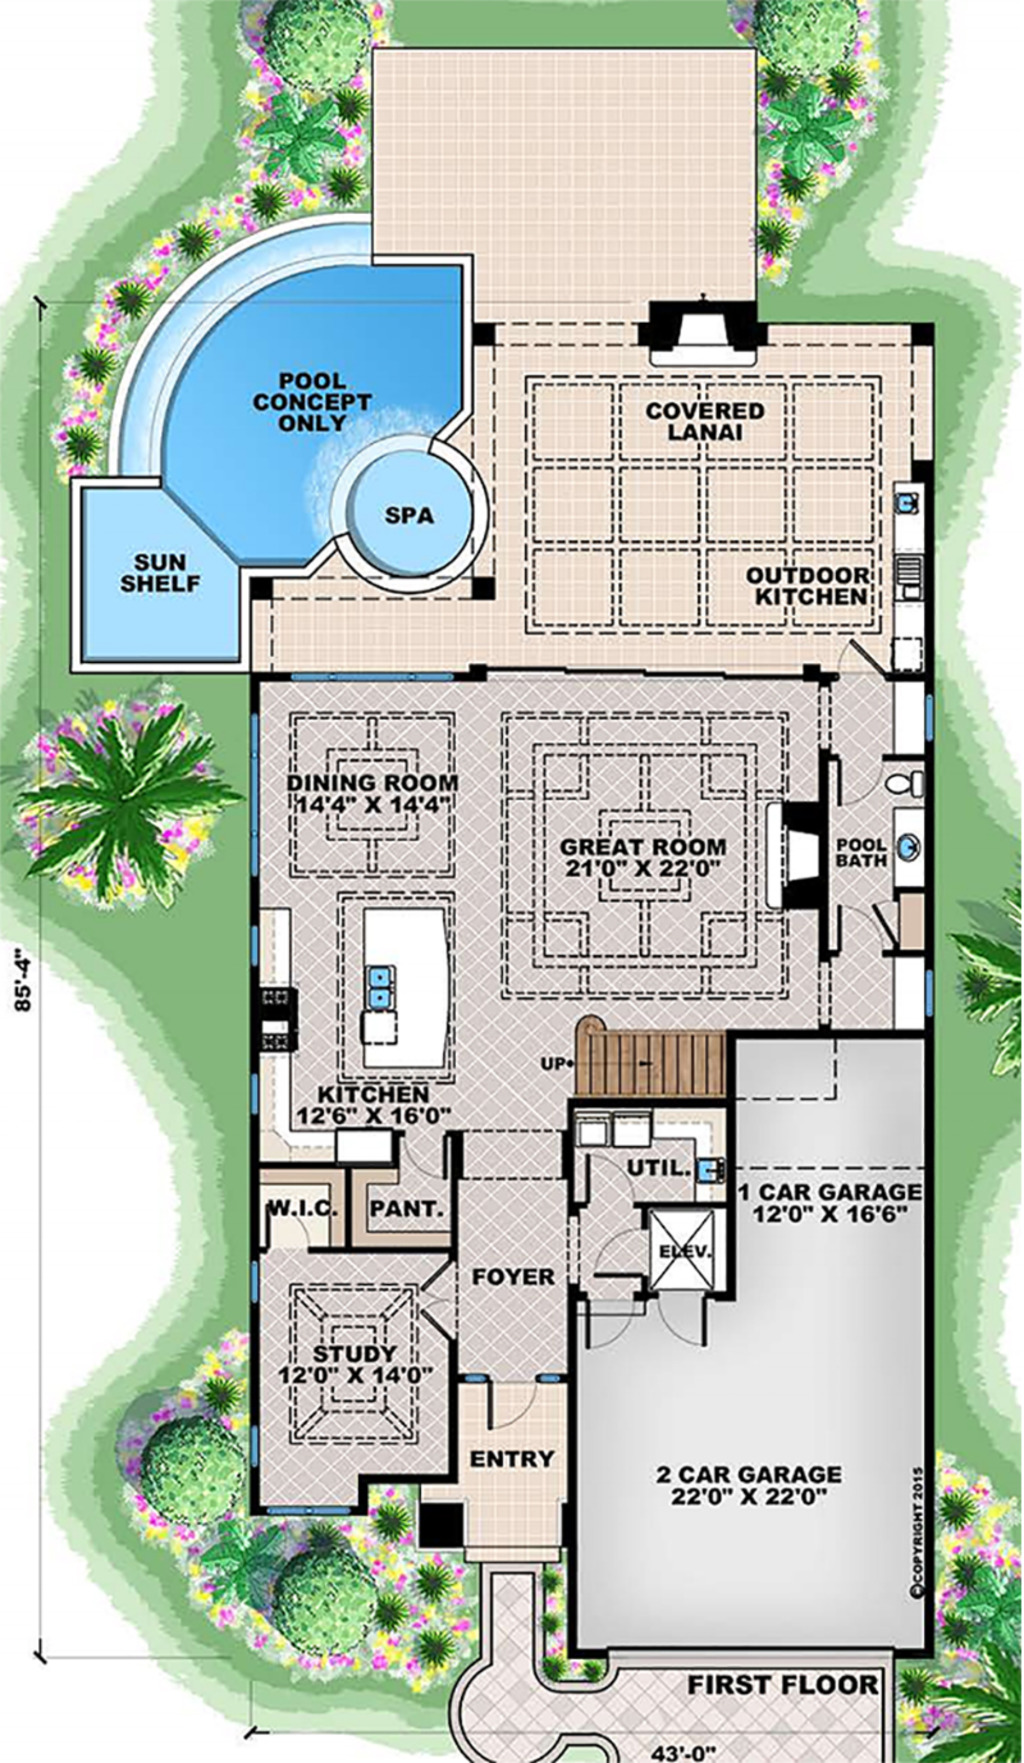door: (575, 1145, 646, 1210), (652, 1287, 722, 1351), (578, 1283, 638, 1355), (588, 1227, 653, 1281), (486, 1378, 540, 1434)
kitchen_bar: (352, 891, 449, 1081)
small_sink: (890, 810, 931, 896)
stairs: (540, 1012, 731, 1108)
